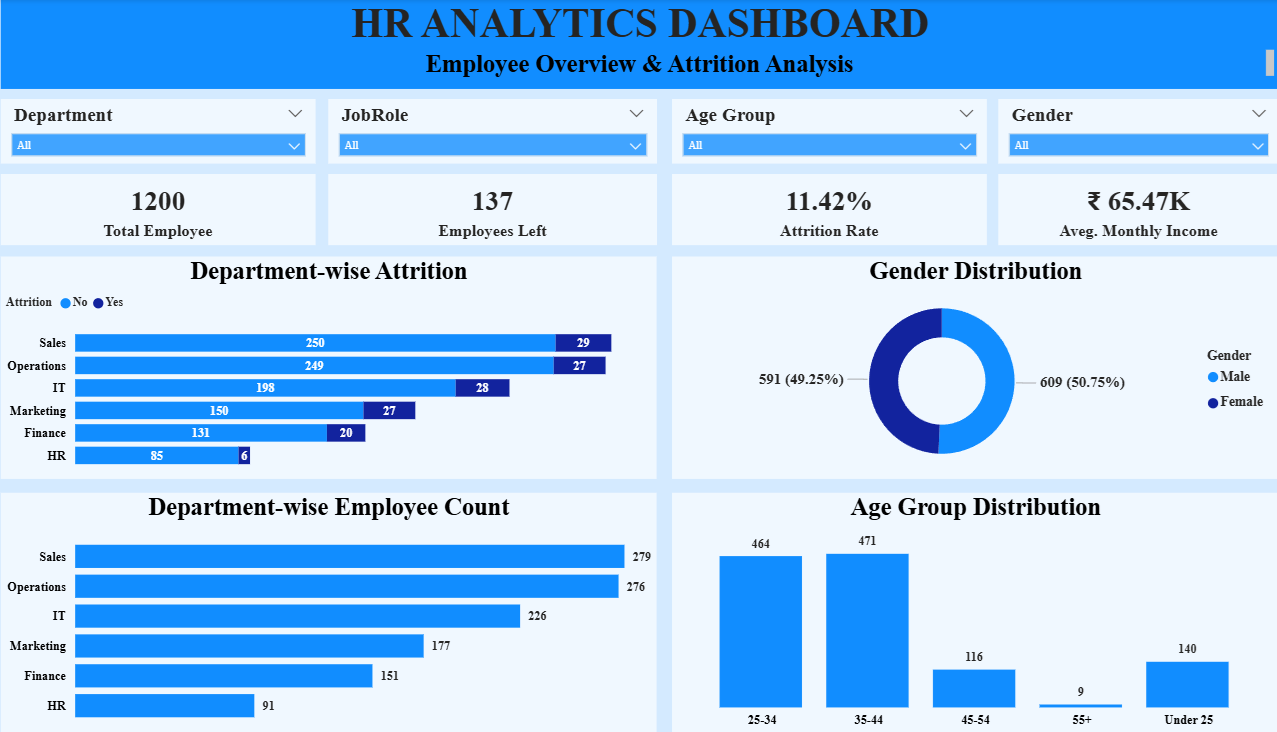

This screenshot's page, from the dashboard's own definition file:
{"tool":"powerbi","page":{"name":"HR Analytics Overview","canvas":[1280,720],"ordinal":0},"visuals":[{"type":"card","fields":{"Values":["CountNonNull(Table1 (2).Employee ID)"]},"box":[13.5,171.2,308.2,69.7],"z":0},{"type":"card","fields":{"Values":["CountNonNull(Table1 (2).Employee ID)"]},"box":[333.8,171.2,321.6,69.7],"z":1000},{"type":"card","fields":{"Values":["Avg(Table1 (2).Monthly Income INR)"]},"box":[989.3,171.2,275.1,69.7],"z":2000},{"type":"card","fields":{"Values":["Table1 (2).Attrition Rate"]},"box":[670.1,171.2,308.2,69.7],"z":3000},{"type":"clusteredBarChart","title":"Department-wise Employee Count","fields":{"Y":["CountNonNull(Table1 (2).Employee ID)"],"Category":["Table1 (2).Department"]},"box":[13.5,483,642,237.2],"z":4000},{"type":"donutChart","title":"Gender Distribution","fields":{"Category":["Table1 (2).Gender"],"Y":["CountNonNull(Table1 (2).Employee ID)"]},"box":[670.1,251.9,594.3,217.7],"z":5000},{"type":"barChart","title":"Department-wise Attrition","fields":{"Category":["Table1 (2).Department"],"Series":["Table1 (2).Attrition"],"Y":["CountNonNull(Table1 (2).Employee ID)"]},"box":[13.5,251.9,642,217.7],"z":6000},{"type":"clusteredColumnChart","title":"Age Group Distribution","fields":{"Y":["CountNonNull(Table1 (2).Employee ID)"],"Category":["Table1 (2).Age Group"]},"box":[670.1,483,594.3,237.2],"z":7000},{"type":"slicer","fields":{"Values":["Table1 (2).Department"]},"box":[13.5,97.8,308.2,63.6],"z":8000},{"type":"slicer","fields":{"Values":["Table1 (2).JobRole"]},"box":[333.8,97.8,321.6,63.6],"z":9000},{"type":"slicer","fields":{"Values":["Table1 (2).Age Group"]},"box":[670.1,97.8,308.2,63.6],"z":10000},{"type":"slicer","fields":{"Values":["Table1 (2).Gender"]},"box":[989.3,97.8,275.1,63.6],"z":11000},{"type":"textbox","title":"HR ANALYTICS DASHBOARD","box":[13.5,0,1251,88],"z":12000}]}

Visuals, with their boxes in screenshot pixels (x1, y1, x2, y2), scaled from the page's 1280x720 canvas onto the 1277x732 screenshot:
card - CountNonNull(Table1 (2).Employee ID): (13, 174, 321, 245)
card - CountNonNull(Table1 (2).Employee ID): (333, 174, 654, 245)
card - Avg(Table1 (2).Monthly Income INR): (987, 174, 1261, 245)
card - Table1 (2).Attrition Rate: (669, 174, 976, 245)
"Department-wise Employee Count" clusteredBarChart: (13, 491, 654, 731)
"Gender Distribution" donutChart: (669, 256, 1261, 477)
"Department-wise Attrition" barChart: (13, 256, 654, 477)
"Age Group Distribution" clusteredColumnChart: (669, 491, 1261, 731)
slicer - Table1 (2).Department: (13, 99, 321, 164)
slicer - Table1 (2).JobRole: (333, 99, 654, 164)
slicer - Table1 (2).Age Group: (669, 99, 976, 164)
slicer - Table1 (2).Gender: (987, 99, 1261, 164)
"HR ANALYTICS DASHBOARD" textbox: (13, 0, 1262, 89)
